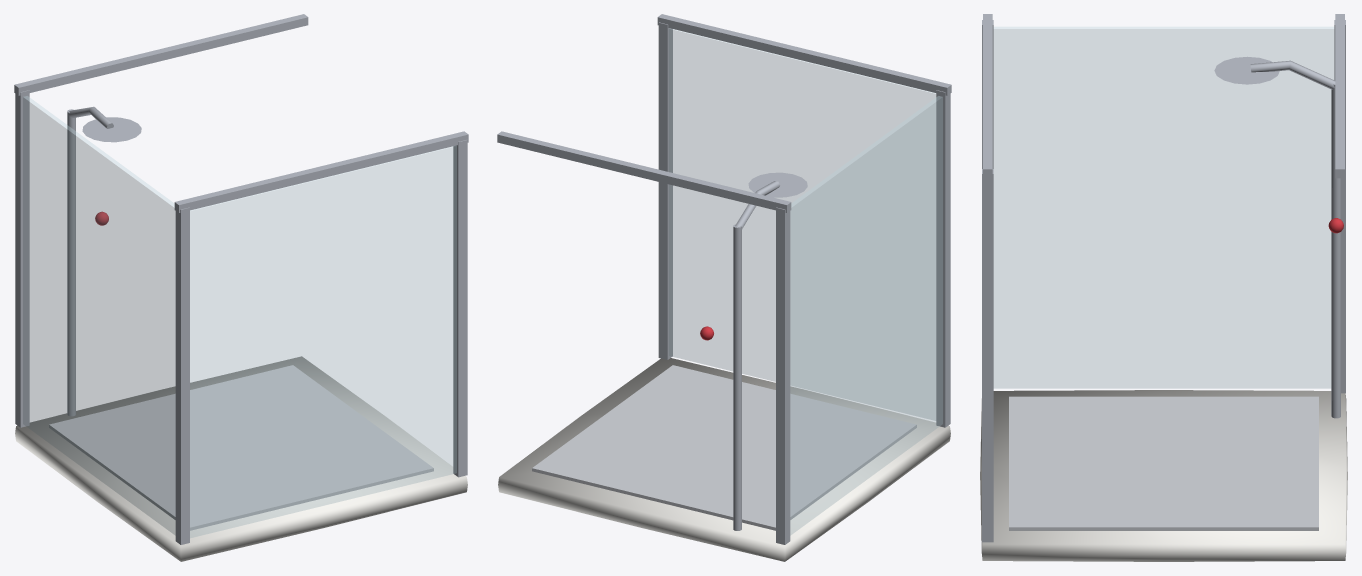
File: shower.glb
The picture shows the model from 3 angles, left to right: view 1: azimuth 30°, elevation 25°; view 2: azimuth 150°, elevation 25°; view 3: azimuth 270°, elevation 25°; orthographic projection. The views are drawn at different scales.
Parts seen in each view (by area): view 1: root; view 2: root; view 3: root.
Boxes of the visible parts, x1,y1,x2,y2 form: root: [14, 14, 468, 561]; root: [497, 14, 951, 561]; root: [980, 14, 1347, 561].
Size of the model in its own units: 1.9 by 2.25 by 1.9.
